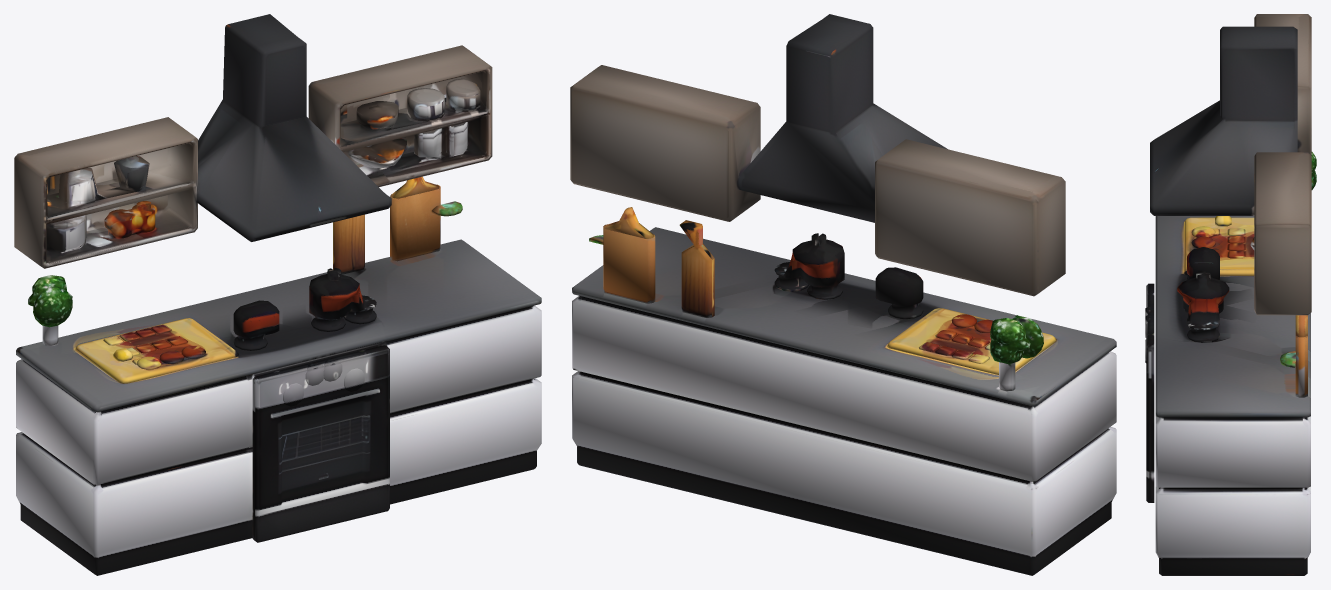
The model's file is zaotai_2.fbx.
3 renders of one model, left to right at view 1: azimuth 30°, elevation 25°; view 2: azimuth 150°, elevation 25°; view 3: azimuth 270°, elevation 25°, orthographic. The views are drawn at different scales.
Parts seen in each view (by area): view 1: texture_v100; view 2: texture_v100; view 3: texture_v100.
Boxes of the visible parts, bbox=[...] form: texture_v100: bbox=[14, 14, 541, 575]; texture_v100: bbox=[570, 14, 1116, 575]; texture_v100: bbox=[1145, 14, 1316, 575].
Size of the model in its own units: 190 by 182 by 64.84.
Materials: 1 (1 with a texture image).
